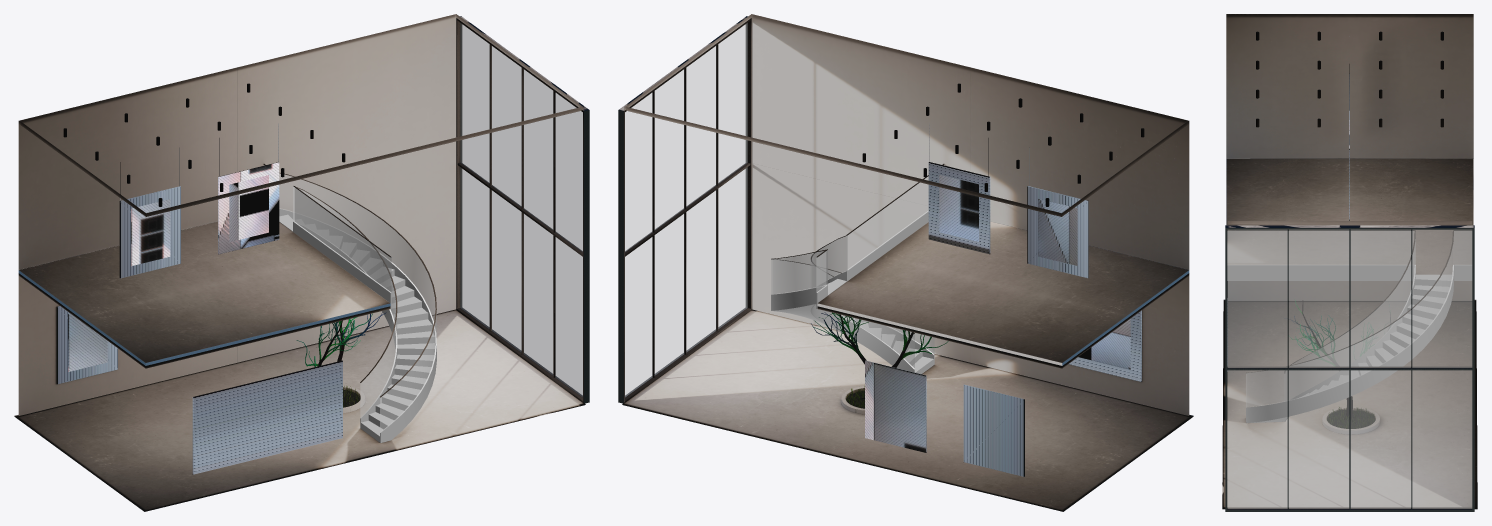
Rendered from Virtual Gallery.gltf.
3 views of the same model, side by side, from view 1: azimuth 30°, elevation 25°; view 2: azimuth 150°, elevation 25°; view 3: azimuth 270°, elevation 25° (orthographic). The views are drawn at different scales.
Parts seen in each view (by area): view 1: walls, floor, glass, paintings, stairs, steel, tree; view 2: walls, floor, glass, paintings, steel, stairs, tree; view 3: glass, floor, walls, stairs, steel, tree.
Part boxes in pixels (bbox=[...]): walls: bbox=[14, 14, 583, 416]; floor: bbox=[15, 221, 585, 511]; glass: bbox=[279, 23, 582, 432]; paintings: bbox=[56, 123, 342, 474]; stairs: bbox=[279, 208, 436, 442]; steel: bbox=[63, 16, 589, 403]; tree: bbox=[296, 312, 386, 366]; walls: bbox=[624, 14, 1193, 416]; floor: bbox=[622, 221, 1192, 511]; glass: bbox=[625, 23, 934, 397]; paintings: bbox=[865, 123, 1141, 476]; steel: bbox=[618, 16, 1144, 403]; stairs: bbox=[771, 211, 934, 373]; tree: bbox=[811, 312, 948, 399]; glass: bbox=[1227, 229, 1472, 508]; floor: bbox=[1222, 159, 1477, 509]; walls: bbox=[1222, 14, 1477, 482]; stairs: bbox=[1227, 265, 1472, 423]; steel: bbox=[1225, 31, 1474, 511]; tree: bbox=[1289, 300, 1390, 423].
Size of the model in its own units: 12.15 by 7.93 by 6.2.
